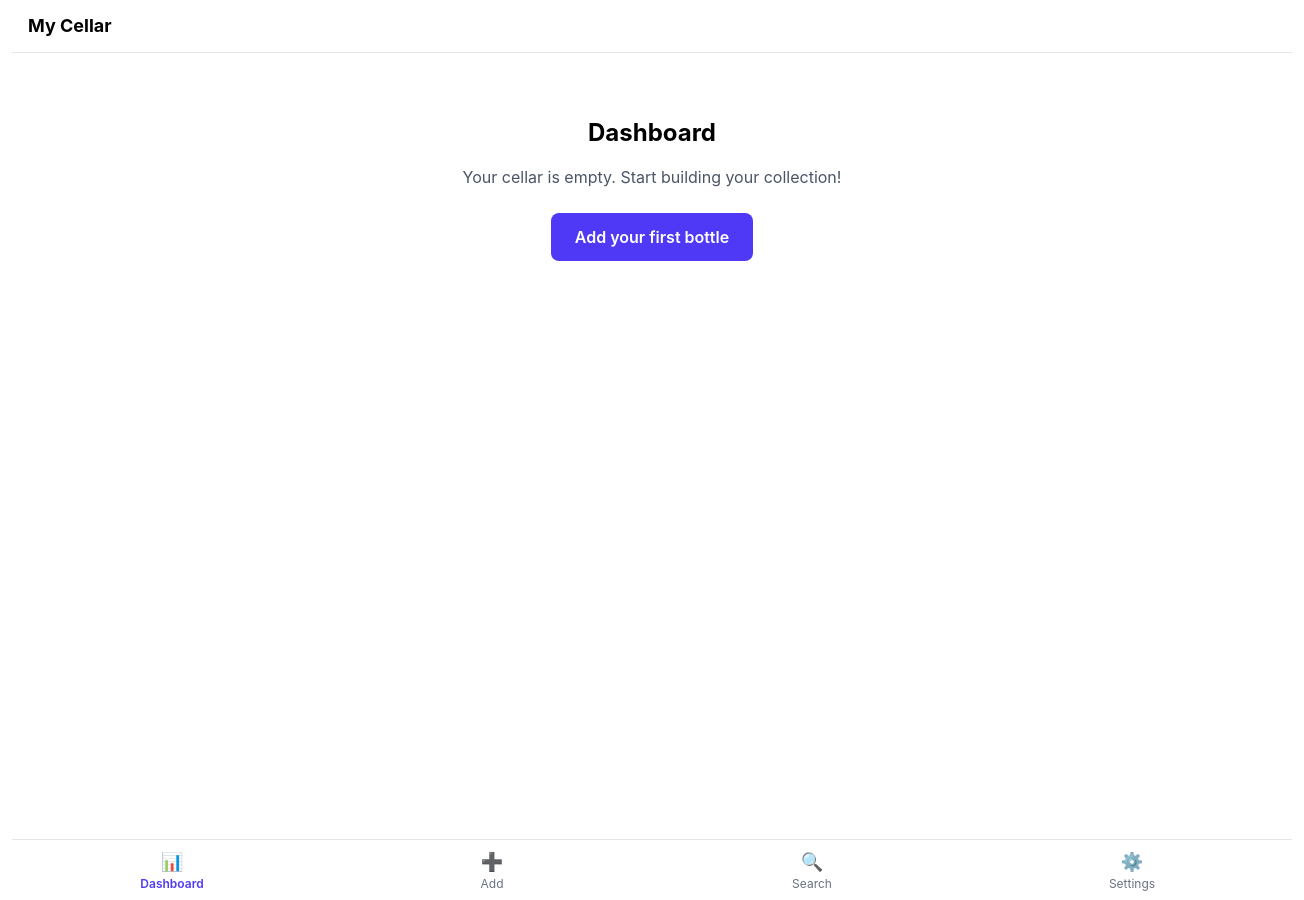
Test case: App › routing › should navigate to a view when clicking a tab
Click the button with test id "tab-settings" at (1132, 870), box [972,840,1292,899]
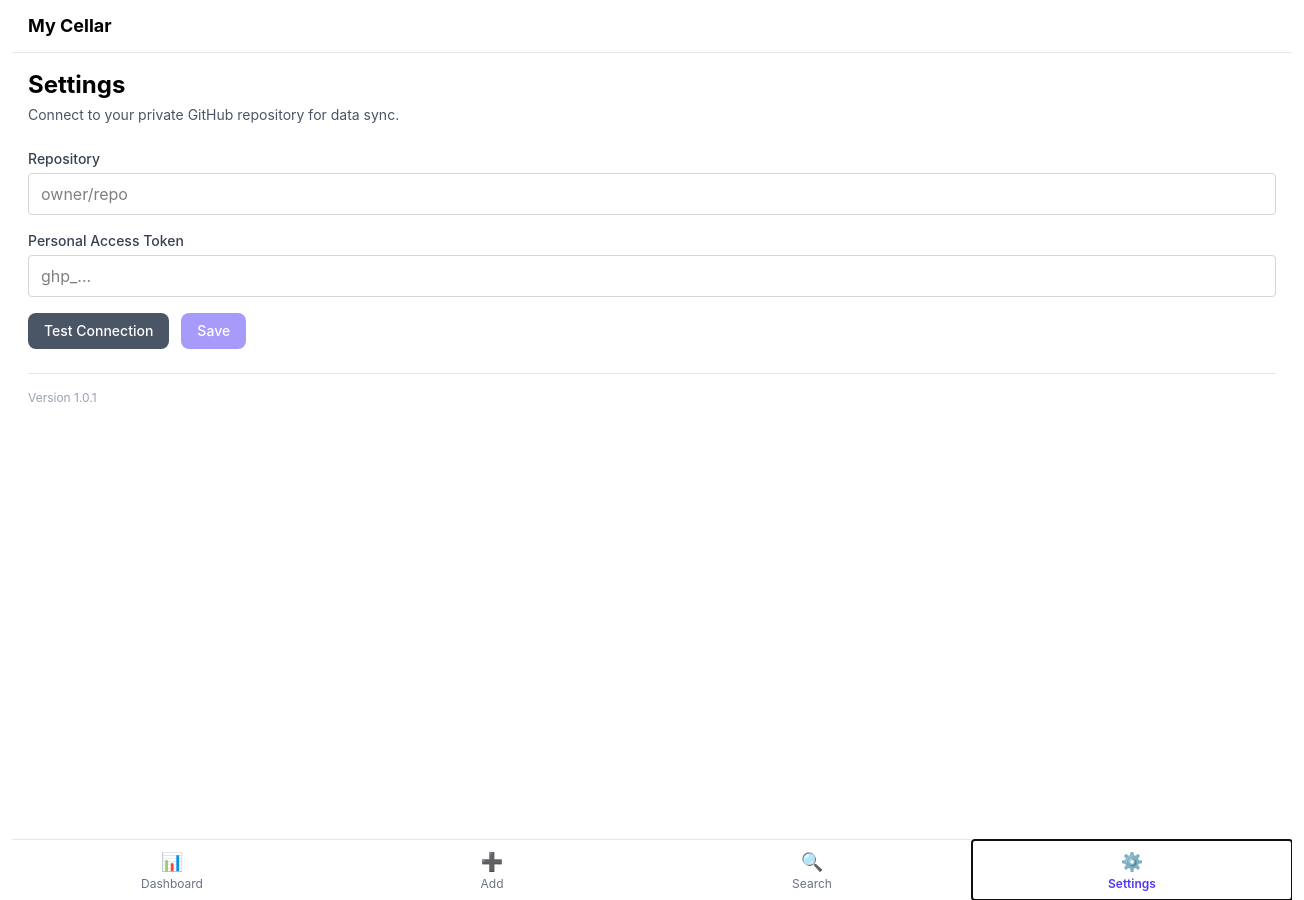
Expected: the heading "Settings" is shown, [28,70,125,99]
